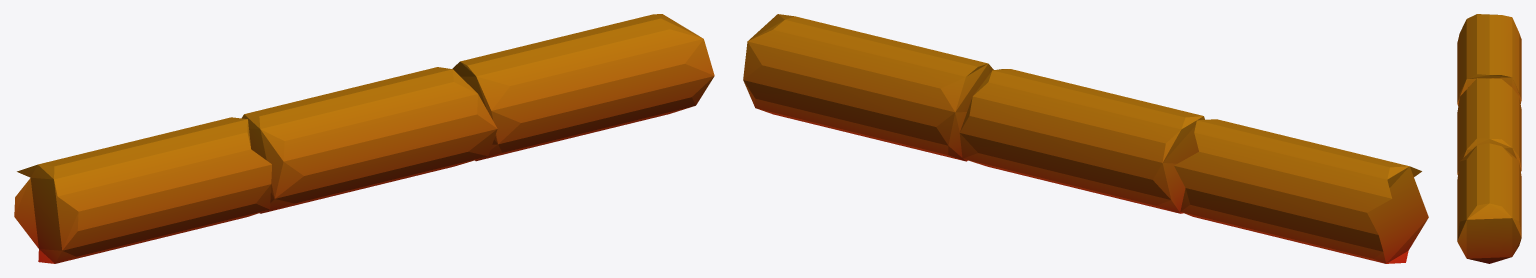
The model's file is column_fallen.glb.
3 views of the same model, side by side, from view 1: azimuth 30°, elevation 25°; view 2: azimuth 150°, elevation 25°; view 3: azimuth 270°, elevation 25° (orthographic). The views are drawn at different scales.
Parts seen in each view (by area): view 1: column_fallen; view 2: column_fallen; view 3: column_fallen.
Boxes of the visible parts, left/top/right/bottom form: column_fallen: left=14, top=14, right=714, bottom=263; column_fallen: left=743, top=14, right=1428, bottom=263; column_fallen: left=1457, top=14, right=1521, bottom=263.
Size of what is drawn, in the model's own units: 4.33 by 0.58 by 0.58.
